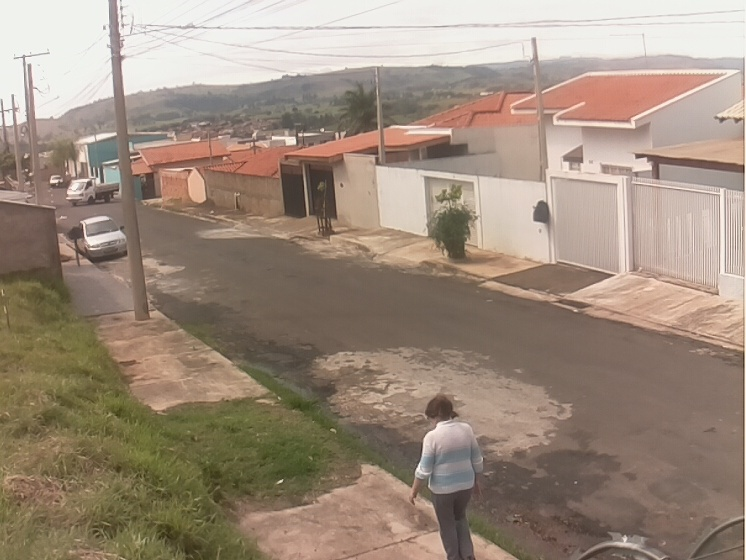person: (406, 393, 486, 560)
